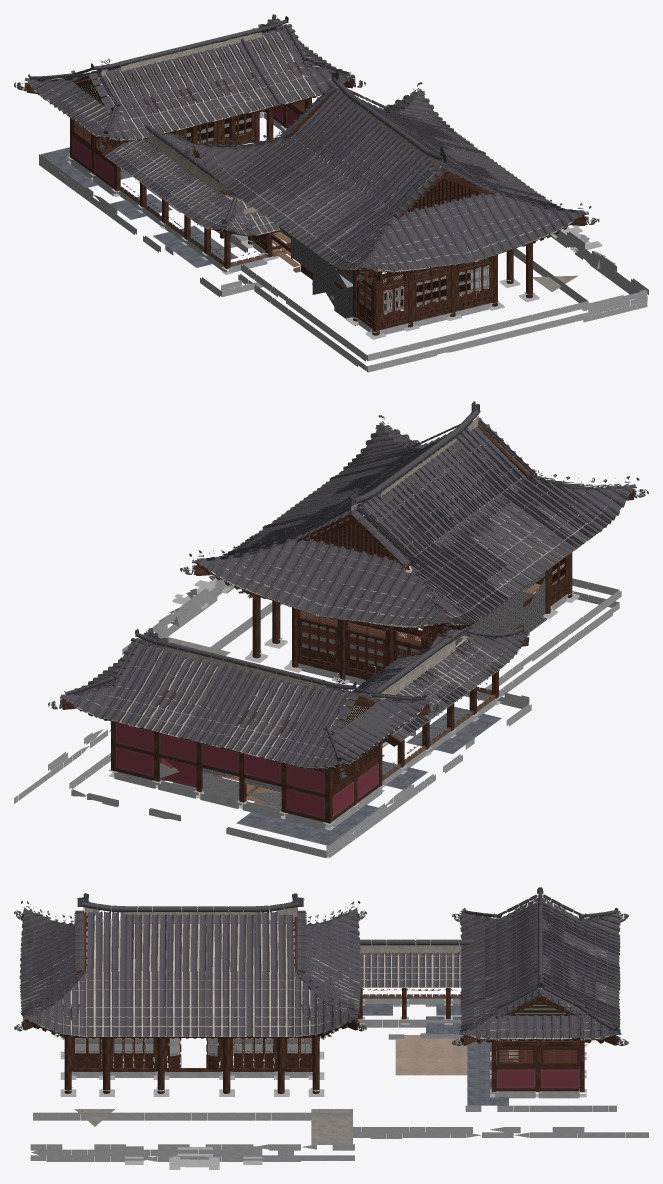
File: unhan.glb
3 renders of one model, top to bottom at view 1: azimuth 30°, elevation 25°; view 2: azimuth 150°, elevation 25°; view 3: azimuth 270°, elevation 25°, orthographic. The views are drawn at different scales.
Visible parts, largest first — view 1: SM_Unhwagak-Iancheong, SM_Unhwagak-Iancheong_MI_R_Roof.001_0.006, SM_Unhwagak-Iancheong_MI_R_Roof.001_0.007, SM_Unhwagak-Iancheong_MI_R_Roof.001_0.013, SM_Unhwagak-Iancheong_MI_R_Roof.001_0.017, SM_Unhwagak-Iancheong_MI_KoreanWood_1.001_0.004, SM_Unhwagak-Iancheong_MI_R_Roof.001_0.015, SM_Unhwagak-Iancheong_MI_R_Roof.001_0.010, SM_Unhwagak-Iancheong_MI_R_Roof.001_0.011, SM_Unhwagak-Iancheong_MI_R_Roof.001_0.016, SM_Unhwagak-Iancheong_MI_R_Roof.001_0.008, SM_Unhwagak-Iancheong_MI_KoreanWood_1.001_0.003 (+13 smaller); view 2: SM_Unhwagak-Iancheong, SM_Unhwagak-Iancheong_MI_R_Roof.001_0.001, SM_Unhwagak-Iancheong_MI_R_Roof.001_0.008, SM_Unhwagak-Iancheong_MI_R_Roof.001_0.002, SM_Unhwagak-Iancheong_MI_R_Roof.001_0.017, SM_Unhwagak-Iancheong_MI_R_Roof.001_0.014, SM_Unhwagak-Iancheong_MI_R_Roof.001_0.015, SM_Unhwagak-Iancheong_MI_R_Roof.001_0.010, SM_Unhwagak-Iancheong_MI_R_Roof.001_0.003, SM_Unhwagak-Iancheong_MI_R_Roof.001_0.011, SM_Unhwagak-Iancheong_MI_KoreanWood_1.001_0.004, SM_Unhwagak-Iancheong_MI_KoreanWood_1.001_0.005 (+14 smaller); view 3: SM_Unhwagak-Iancheong, SM_Unhwagak-Iancheong_MI_KoreanWood_1.001_0.004, SM_Unhwagak-Iancheong_MI_R_Roof.001_0.007, SM_Unhwagak-Iancheong_MI_R_Roof.001_0.012, SM_Unhwagak-Iancheong_MI_R_Roof.001_0.016, SM_Unhwagak-Iancheong_MI_R_Roof.001_0.009, SM_Unhwagak-Iancheong_MI_R_Roof.001_0.015, SM_Unhwagak-Iancheong_MI_R_Roof.001_0.006, SM_Unhwagak-Iancheong_MI_R_Roof.001_0.010, SM_Unhwagak-Iancheong_MI_R_Roof.001_0.002, SM_Unhwagak-Iancheong_MI_R_Roof.001_0.001, SM_Unhwagak-Iancheong_MI_R_Roof.001_0.013 (+14 smaller).
Part boxes in pixels (x1,y1,x2,y2): SM_Unhwagak-Iancheong: (27,14,648,372); SM_Unhwagak-Iancheong_MI_R_Roof.001_0.006: (24,40,250,139); SM_Unhwagak-Iancheong_MI_R_Roof.001_0.007: (67,29,496,262); SM_Unhwagak-Iancheong_MI_R_Roof.001_0.013: (190,98,492,272); SM_Unhwagak-Iancheong_MI_R_Roof.001_0.017: (67,16,420,214); SM_Unhwagak-Iancheong_MI_KoreanWood_1.001_0.004: (70,98,532,335); SM_Unhwagak-Iancheong_MI_R_Roof.001_0.015: (275,70,516,244); SM_Unhwagak-Iancheong_MI_R_Roof.001_0.010: (252,88,547,229); SM_Unhwagak-Iancheong_MI_R_Roof.001_0.011: (225,82,496,218); SM_Unhwagak-Iancheong_MI_R_Roof.001_0.016: (304,130,591,262); SM_Unhwagak-Iancheong_MI_R_Roof.001_0.008: (307,91,453,264); SM_Unhwagak-Iancheong_MI_KoreanWood_1.001_0.003: (162,113,492,321); SM_Unhwagak-Iancheong: (14,415,635,858); SM_Unhwagak-Iancheong_MI_R_Roof.001_0.001: (148,539,526,755); SM_Unhwagak-Iancheong_MI_R_Roof.001_0.008: (180,425,639,598); SM_Unhwagak-Iancheong_MI_R_Roof.001_0.002: (48,632,337,765); SM_Unhwagak-Iancheong_MI_R_Roof.001_0.017: (135,434,528,738); SM_Unhwagak-Iancheong_MI_R_Roof.001_0.014: (356,475,648,637); SM_Unhwagak-Iancheong_MI_R_Roof.001_0.015: (280,443,572,567); SM_Unhwagak-Iancheong_MI_R_Roof.001_0.010: (325,419,550,583); SM_Unhwagak-Iancheong_MI_R_Roof.001_0.003: (98,629,485,753); SM_Unhwagak-Iancheong_MI_R_Roof.001_0.011: (189,417,535,616); SM_Unhwagak-Iancheong_MI_KoreanWood_1.001_0.004: (111,552,572,823); SM_Unhwagak-Iancheong_MI_KoreanWood_1.001_0.005: (297,609,387,679); SM_Unhwagak-Iancheong: (21,901,648,1169); SM_Unhwagak-Iancheong_MI_KoreanWood_1.001_0.004: (64,988,584,1093); SM_Unhwagak-Iancheong_MI_R_Roof.001_0.007: (87,905,538,1036); SM_Unhwagak-Iancheong_MI_R_Roof.001_0.012: (76,893,306,1036); SM_Unhwagak-Iancheong_MI_R_Roof.001_0.016: (19,906,168,1036); SM_Unhwagak-Iancheong_MI_R_Roof.001_0.009: (14,912,359,1036); SM_Unhwagak-Iancheong_MI_R_Roof.001_0.015: (132,893,304,1036); SM_Unhwagak-Iancheong_MI_R_Roof.001_0.006: (460,901,621,1009); SM_Unhwagak-Iancheong_MI_R_Roof.001_0.010: (74,906,318,1036); SM_Unhwagak-Iancheong_MI_R_Roof.001_0.002: (452,905,628,1045); SM_Unhwagak-Iancheong_MI_R_Roof.001_0.001: (302,910,619,1030); SM_Unhwagak-Iancheong_MI_R_Roof.001_0.013: (19,901,360,1036).
Size of the model in its own units: 28.07 by 13.7 by 43.11.
32 materials, 31 textured.
